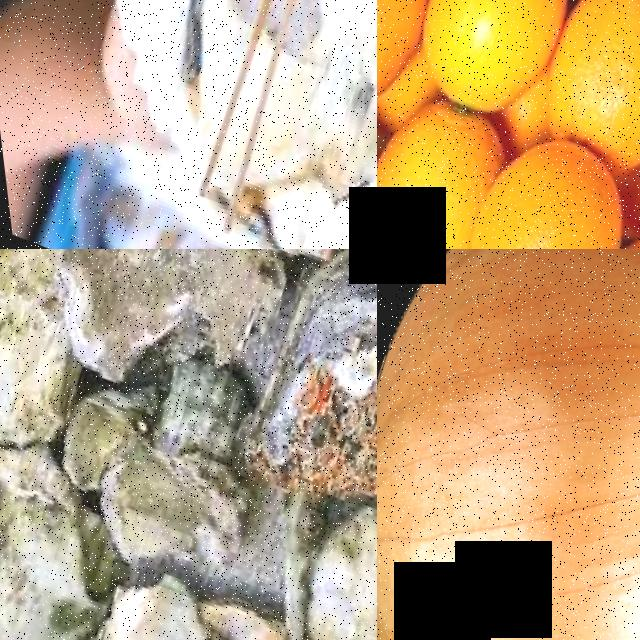onion: (377, 249, 640, 640)
orange: (380, 0, 598, 132), (414, 125, 640, 249), (503, 0, 640, 185), (377, 79, 523, 249), (377, 0, 464, 134)
oysters: (0, 0, 377, 249), (206, 249, 377, 555), (0, 425, 133, 640), (210, 471, 377, 640), (0, 249, 115, 456)
